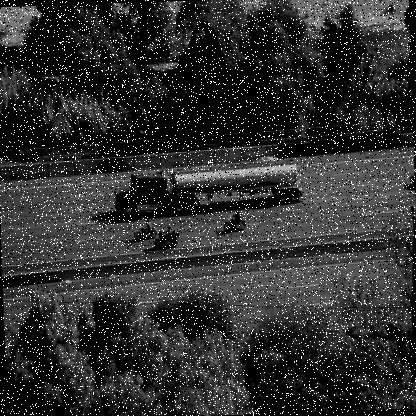Car: (408, 172, 415, 188)
